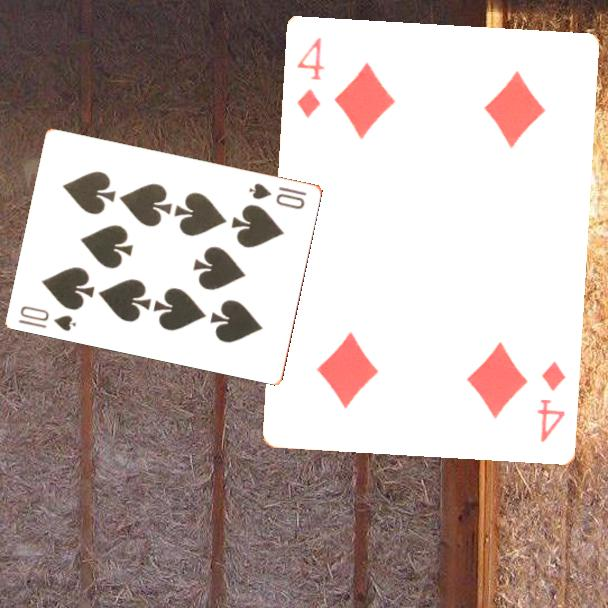d04: (534, 358, 569, 446), (294, 34, 328, 121)
s10: (245, 179, 310, 212), (15, 302, 79, 334)
